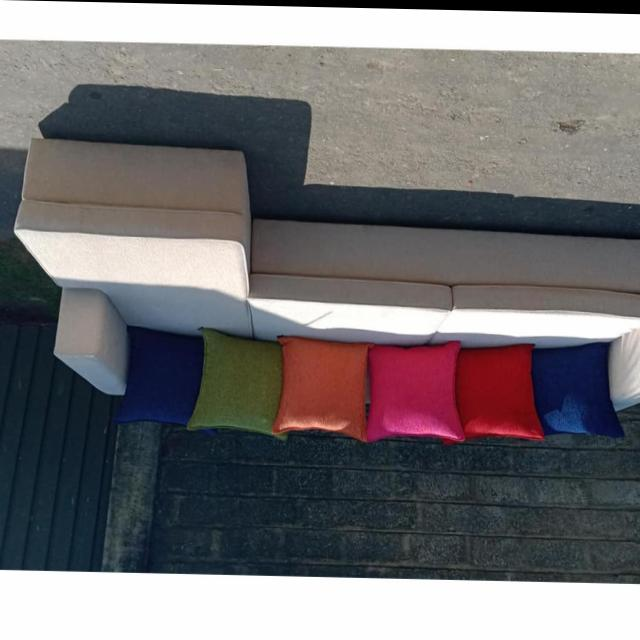Sofa: (18, 135, 640, 445)
